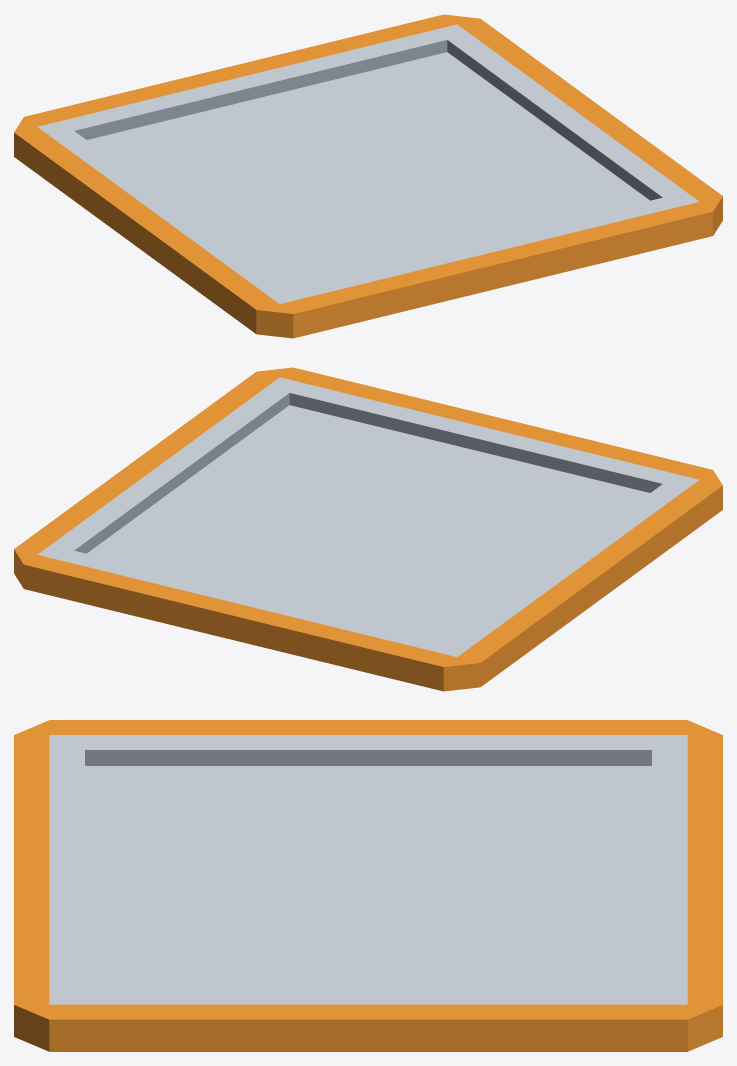
The model's file is platform_large.glb.
The picture shows the model from 3 angles, top to bottom: view 1: azimuth 30°, elevation 25°; view 2: azimuth 150°, elevation 25°; view 3: azimuth 270°, elevation 25°; orthographic projection. The views are drawn at different scales.
Parts seen in each view (by area): view 1: platform_large; view 2: platform_large; view 3: platform_large.
Part boxes in pixels (bbox=[...]): platform_large: bbox=[14, 14, 722, 338]; platform_large: bbox=[14, 367, 722, 691]; platform_large: bbox=[14, 720, 722, 1051].
Size of the model in its own units: 2 by 0.1 by 2.
